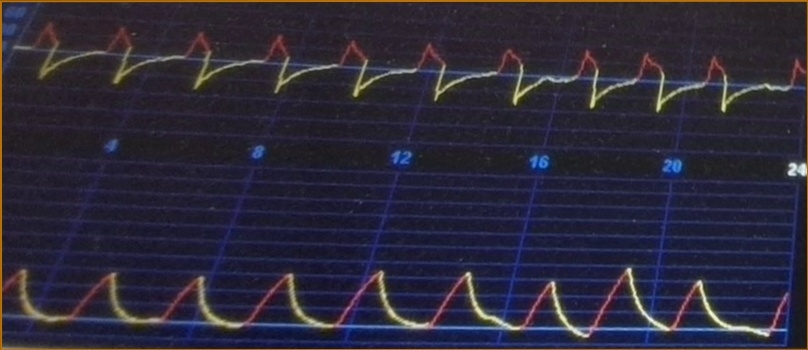Ineffective_effort Flow: (21, 18, 806, 121)
Ineffective_effort Volume: (6, 233, 788, 342)
